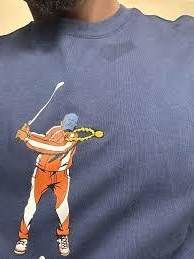oil: (100, 39, 134, 65)
